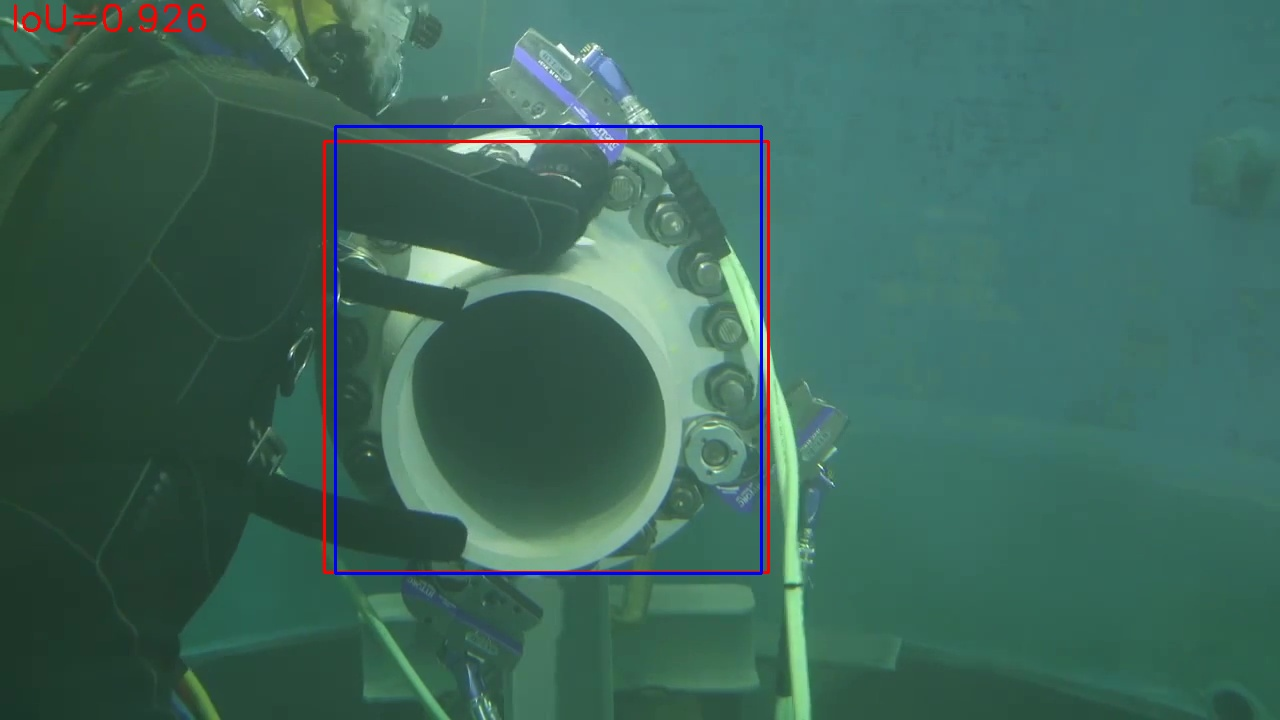flange joint: (325, 142, 768, 572)
